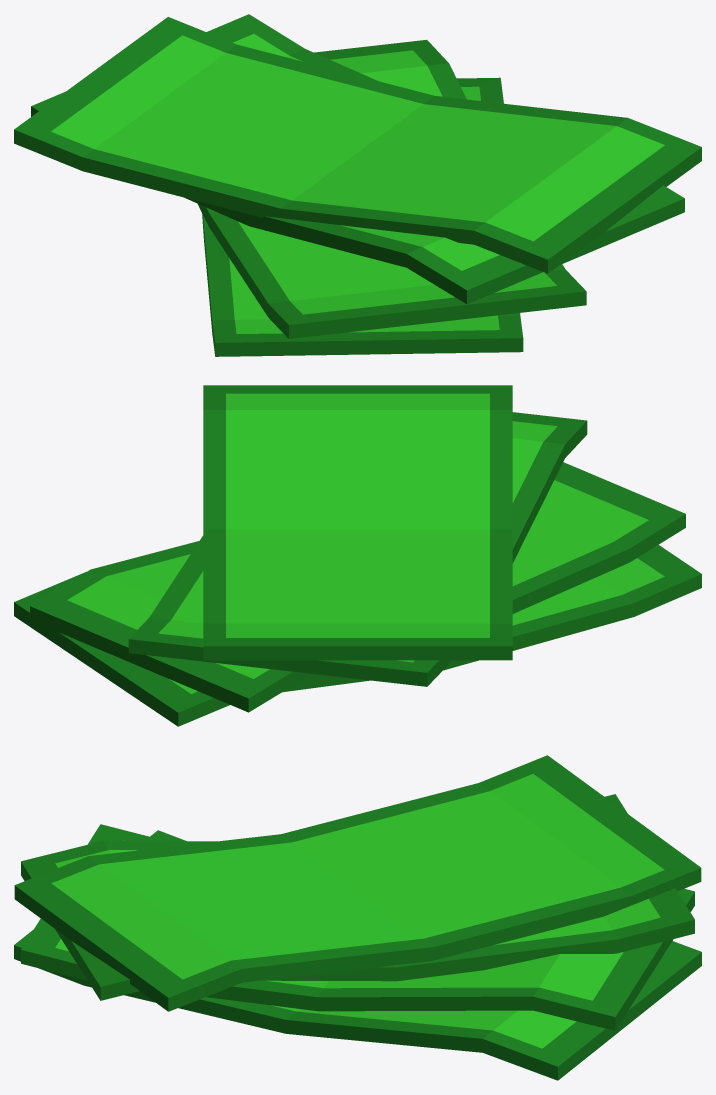
File: money.fbx
3 views of the same model, one above another, from view 1: azimuth 30°, elevation 25°; view 2: azimuth 150°, elevation 25°; view 3: azimuth 270°, elevation 25° (orthographic).
Parts seen in each view (by area): view 1: Money; view 2: Money; view 3: Money.
Boxes of the visible parts, left/top/right/bottom form: Money: left=14, top=14, right=701, bottom=356; Money: left=14, top=385, right=701, bottom=726; Money: left=14, top=755, right=701, bottom=1080.
Size of the model in its own units: 3732 by 796 by 4471.
